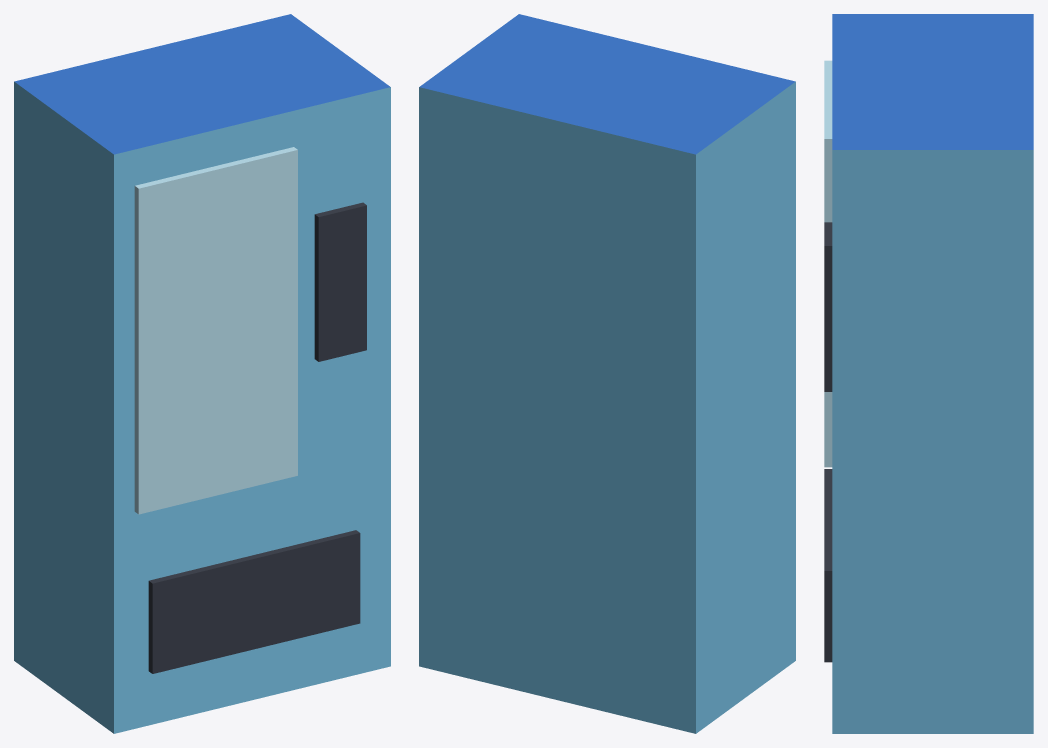
Rendered from prop_vending_machine.glb.
3 views of the same model, side by side, from view 1: azimuth 30°, elevation 25°; view 2: azimuth 150°, elevation 25°; view 3: azimuth 270°, elevation 25° (orthographic).
Visible parts, largest first — view 1: prop_vending_machine; view 2: prop_vending_machine; view 3: prop_vending_machine.
Boxes of the visible parts, x1=… form: prop_vending_machine: x1=14, y1=14, x2=390, y2=733; prop_vending_machine: x1=419, y1=14, x2=795, y2=733; prop_vending_machine: x1=824, y1=14, x2=1033, y2=733.
Size of the model in its own units: 0.08 by 0.16 by 0.052.
